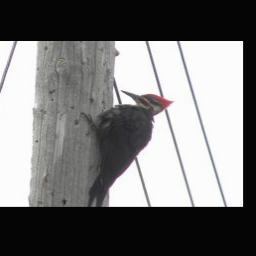Woodpecker: (79, 88, 176, 206)
